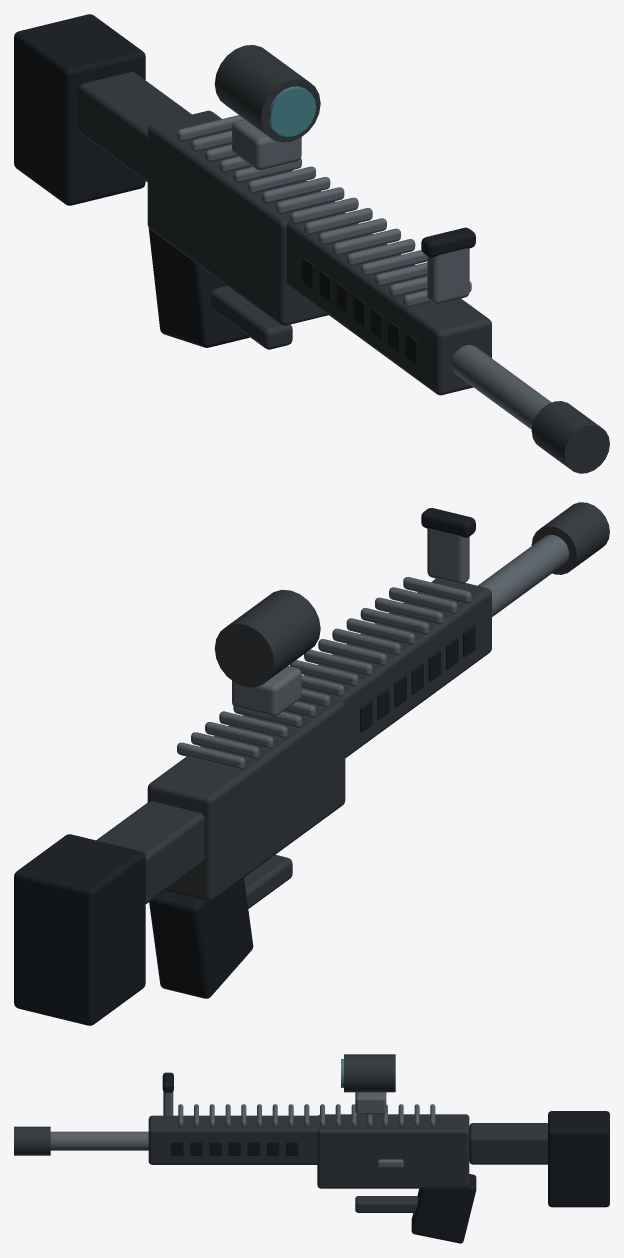
The model's file is builtin-rifle.glb.
3 views of the same model, one above another, from view 1: azimuth 30°, elevation 25°; view 2: azimuth 150°, elevation 25°; view 3: azimuth 270°, elevation 25° (orthographic). The views are drawn at different scales.
Parts seen in each view (by area): view 1: Rifle; view 2: Rifle; view 3: Rifle.
Boxes of the visible parts, x1,y1,x2,y2 form: Rifle: [14, 14, 609, 473]; Rifle: [14, 502, 609, 1025]; Rifle: [14, 1054, 609, 1243].
Size of the model in its own units: 0.092 by 0.3562 by 1.06.
